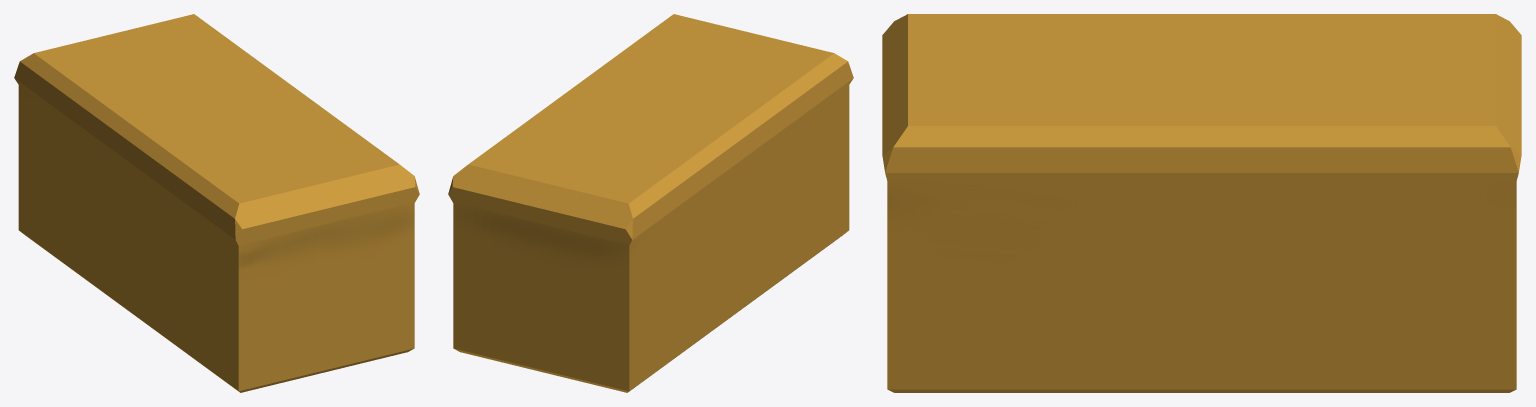
Rendered from Bread.glb.
3 views of the same model, side by side, from view 1: azimuth 30°, elevation 25°; view 2: azimuth 150°, elevation 25°; view 3: azimuth 270°, elevation 25° (orthographic). The views are drawn at different scales.
Visible parts, largest first — view 1: Cube; view 2: Cube; view 3: Cube.
Part boxes in pixels (left/top/right/bottom): Cube: left=14, top=14, right=419, bottom=392; Cube: left=448, top=14, right=853, bottom=392; Cube: left=882, top=14, right=1521, bottom=392.
Bounding box in the file's own units: 2.09 × 2.01 × 4.4.
1 material, 1 textured.
